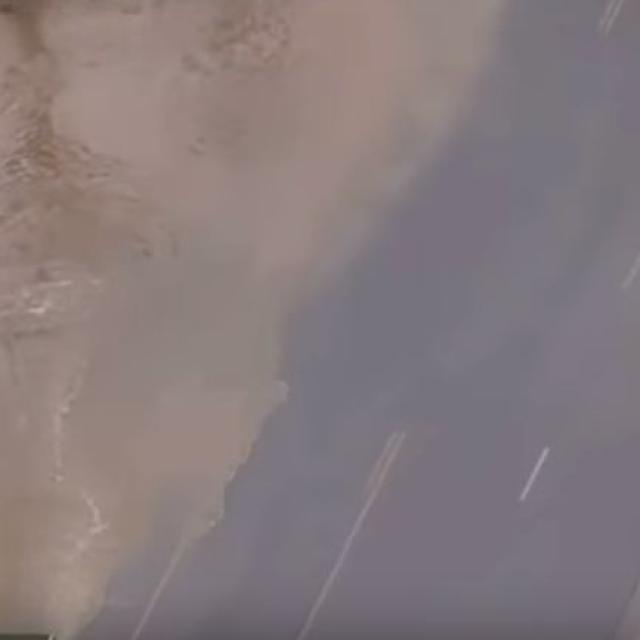flooded_areas: (0, 0, 454, 637)
